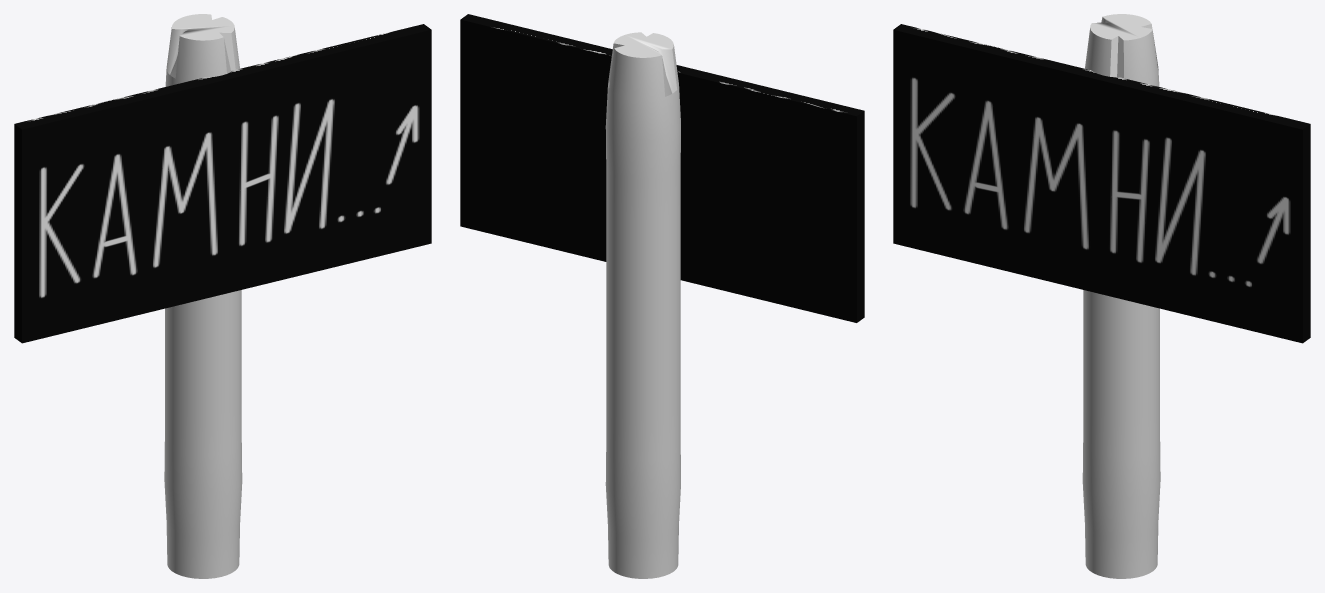
File: Tablet.fbx
3 renders of one model, left to right at view 1: azimuth 30°, elevation 25°; view 2: azimuth 150°, elevation 25°; view 3: azimuth 330°, elevation 25°, orthographic. The views are drawn at different scales.
Parts seen in each view (by area): view 1: Cube, Cylinder; view 2: Cube, Cylinder; view 3: Cube, Cylinder.
Part boxes in pixels (x1,y1,x2,y2): Cube: [14, 24, 431, 343]; Cylinder: [164, 14, 242, 578]; Cube: [460, 14, 864, 322]; Cylinder: [605, 32, 680, 578]; Cube: [893, 24, 1310, 343]; Cylinder: [1082, 14, 1160, 578].
Bounding box in the file's own units: 850 × 155 × 1064.
